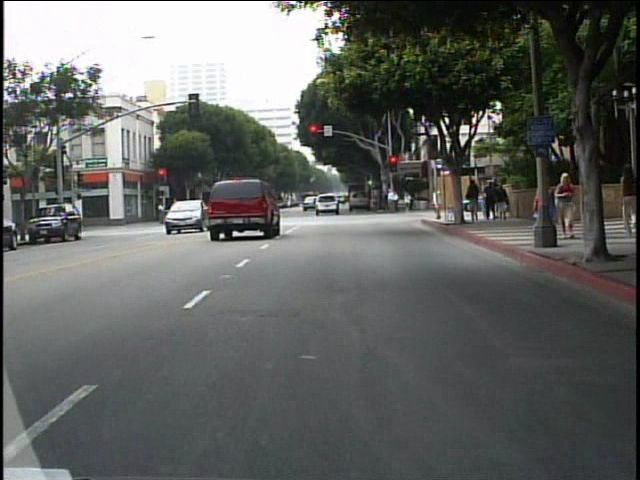person: (614, 159, 637, 238), (551, 170, 577, 238), (592, 169, 608, 240), (466, 177, 482, 223), (430, 187, 445, 220), (157, 198, 169, 228)
